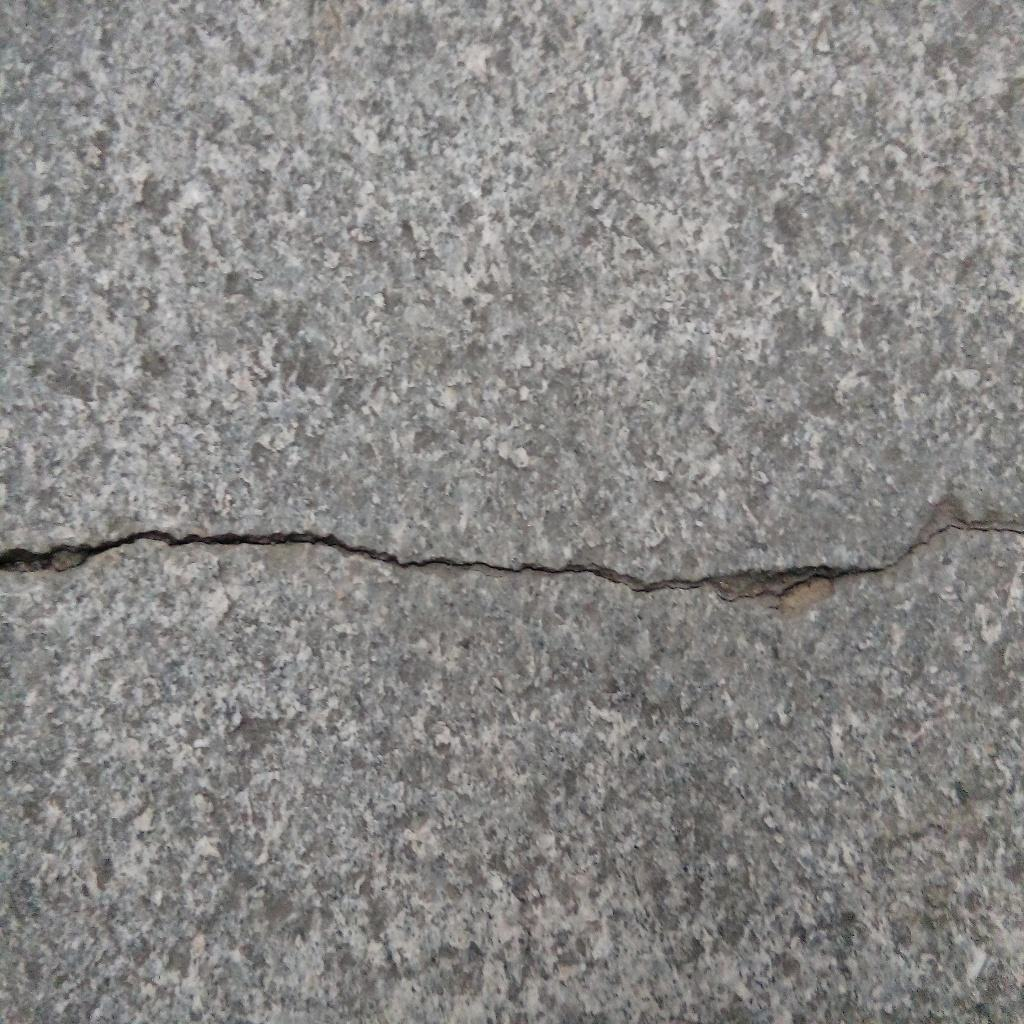Crack: (1, 493, 1024, 619)
